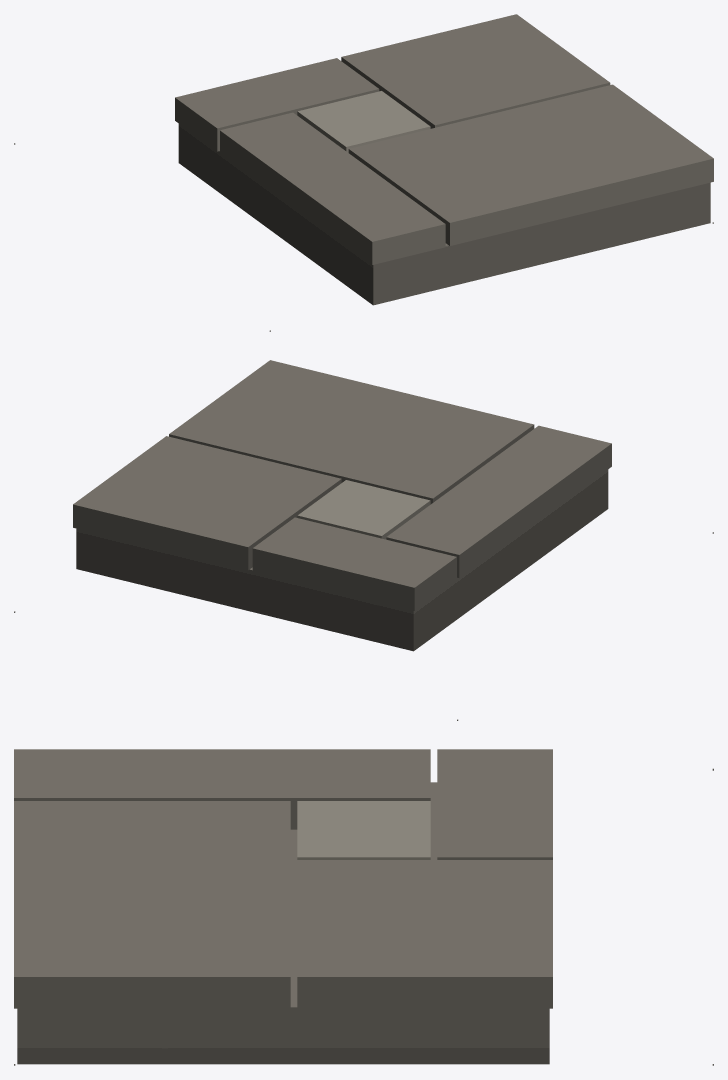
The model's file is floor_stone_corner.glb.
3 views of the same model, one above another, from view 1: azimuth 30°, elevation 25°; view 2: azimuth 150°, elevation 25°; view 3: azimuth 270°, elevation 25° (orthographic). The views are drawn at different scales.
Size of the model in its own units: 1 by 0.14 by 1.
1 material, 1 textured.
